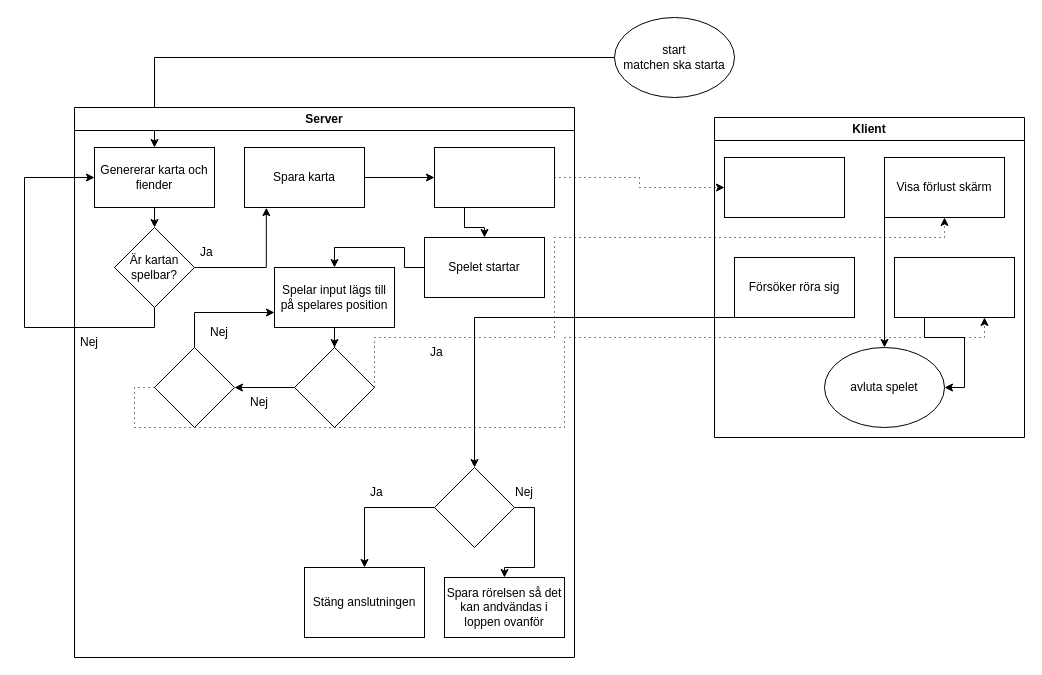
Image size: 1042x675. Some labels were removed from this diagram. Each missing label, with the centre of its shape:
Fuskar spelaren?: [474,507]
HAr spelaren och drönaren samma position?: [334,387]
Har spelaren vunnit: [194,387]
Karta: [494,177]
Kommer ihåg karta: [784,187]
Vissa vinst skärm: [954,287]
